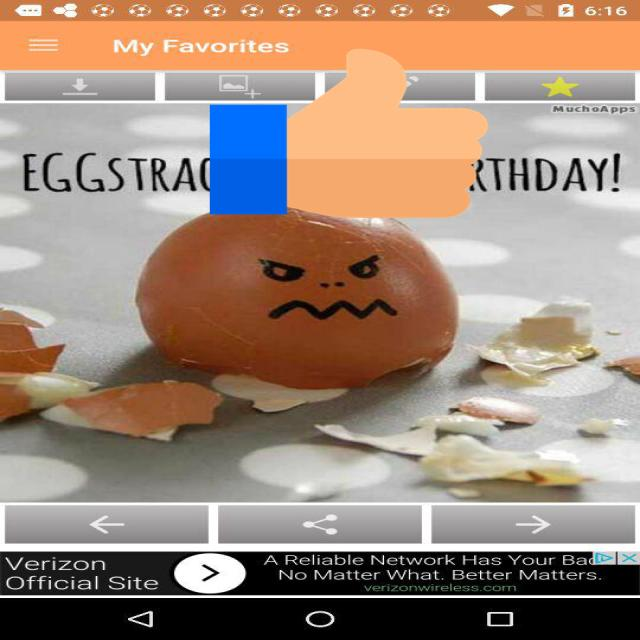privacy zuckering: (210, 45, 488, 222)
